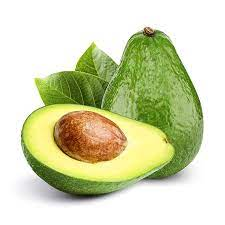avocado: (23, 104, 174, 195)
